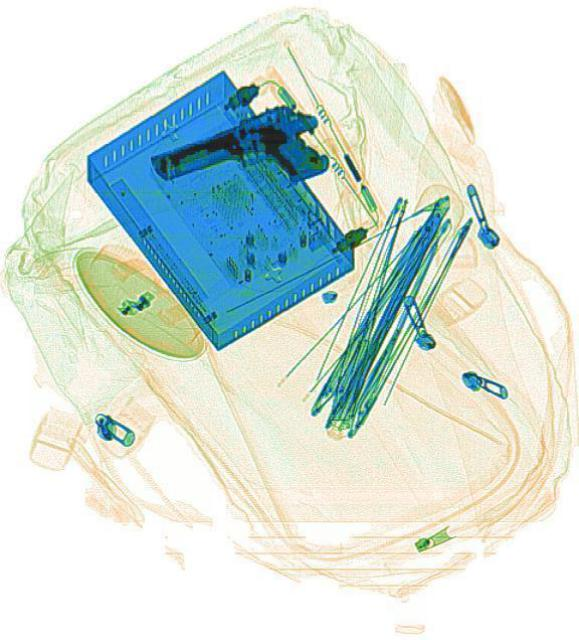Gun: (146, 91, 335, 233)
